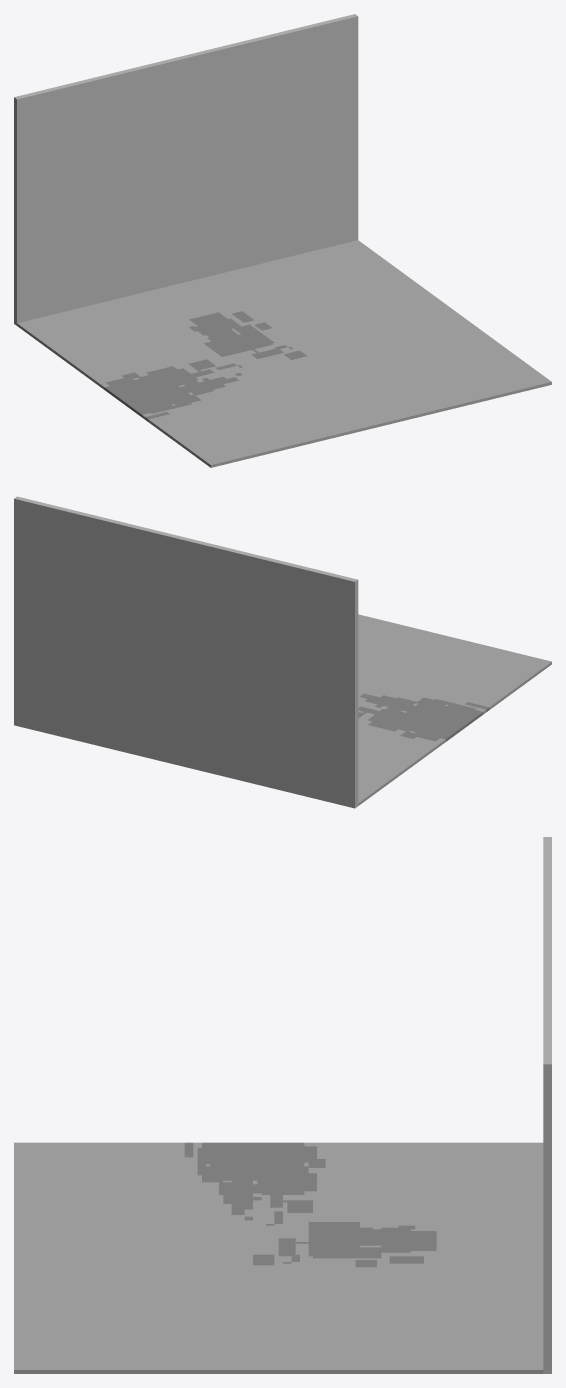
The model's file is 4x2 first (1)-8.obj.
The picture shows the model from 3 angles, top to bottom: view 1: azimuth 30°, elevation 25°; view 2: azimuth 150°, elevation 25°; view 3: azimuth 270°, elevation 25°; orthographic projection. The views are drawn at different scales.
Visible parts, largest first — view 1: 4x2 first (1)-0; view 2: 4x2 first (1)-0; view 3: 4x2 first (1)-0.
Boxes of the visible parts, <box> form: 4x2 first (1)-0: <box>14,14,551,467</box>; 4x2 first (1)-0: <box>14,496,551,808</box>; 4x2 first (1)-0: <box>14,837,551,1373</box>.
Bounding box in the file's own units: 126 × 80 × 126.
Materials: 1 (1 with a texture image).
